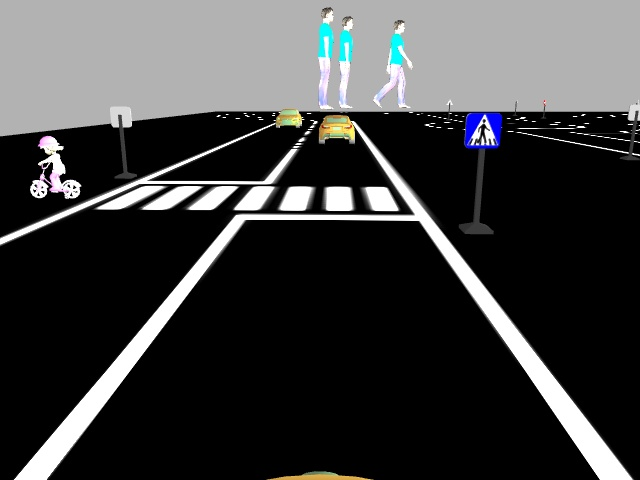Crosswalk: (464, 112, 503, 149)
Pedestrian: (22, 136, 81, 198)
